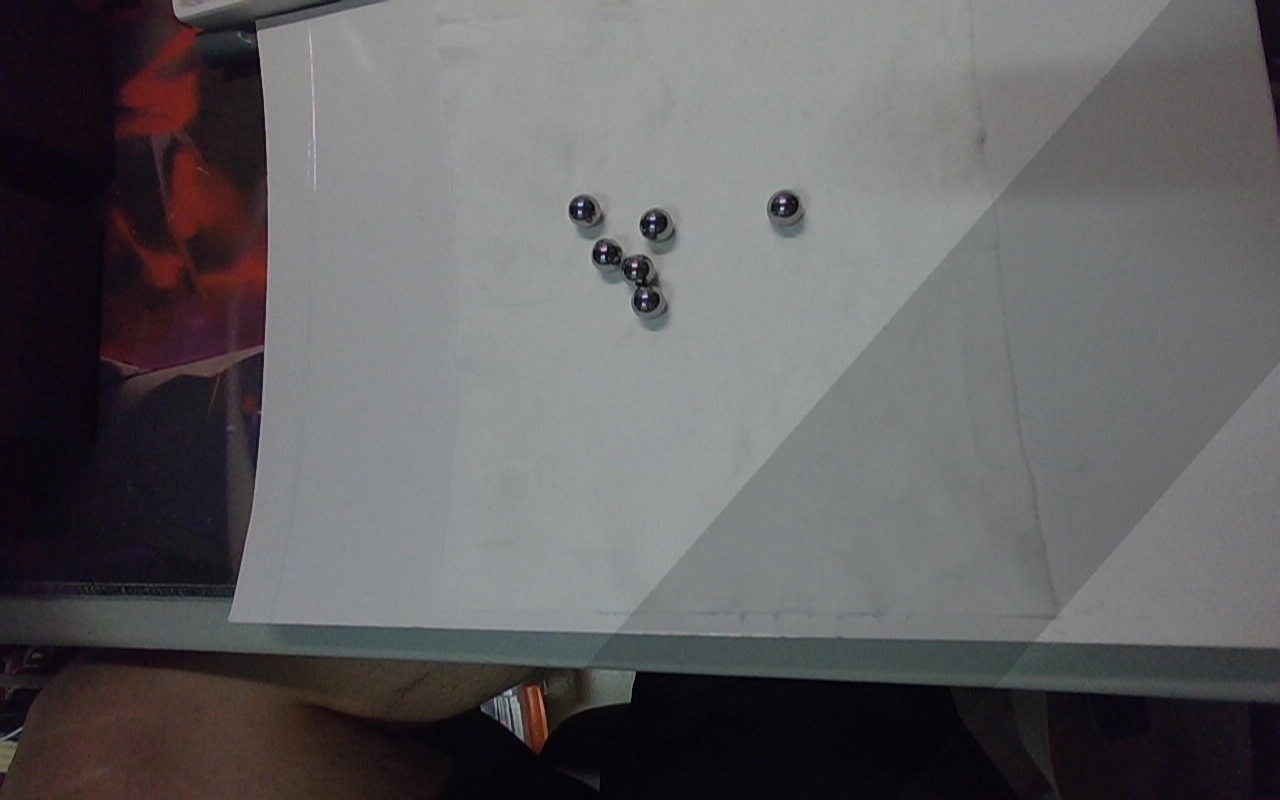ball: (764, 187, 807, 233), (627, 278, 670, 323), (636, 204, 677, 246), (564, 189, 604, 232), (587, 234, 624, 273), (621, 250, 658, 287)
